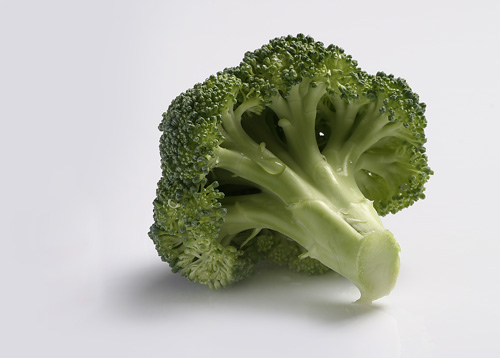broccoli: (136, 27, 441, 311)
